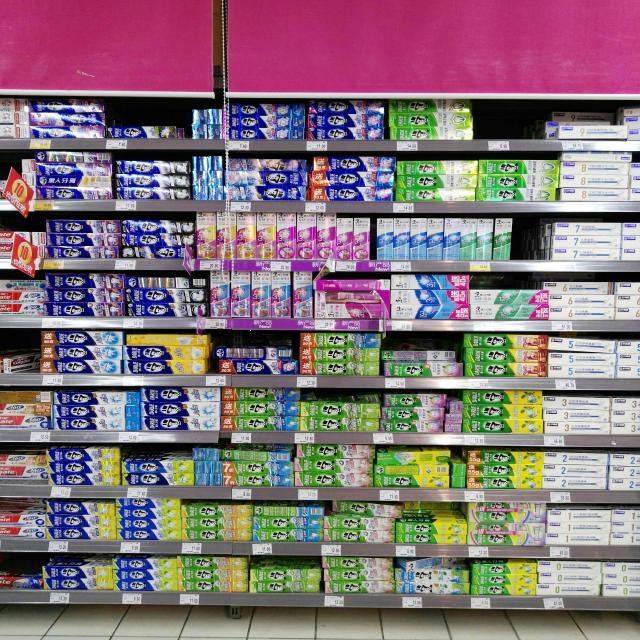void: (513, 100, 540, 158), (481, 101, 505, 154), (514, 216, 530, 278), (533, 216, 550, 274)
